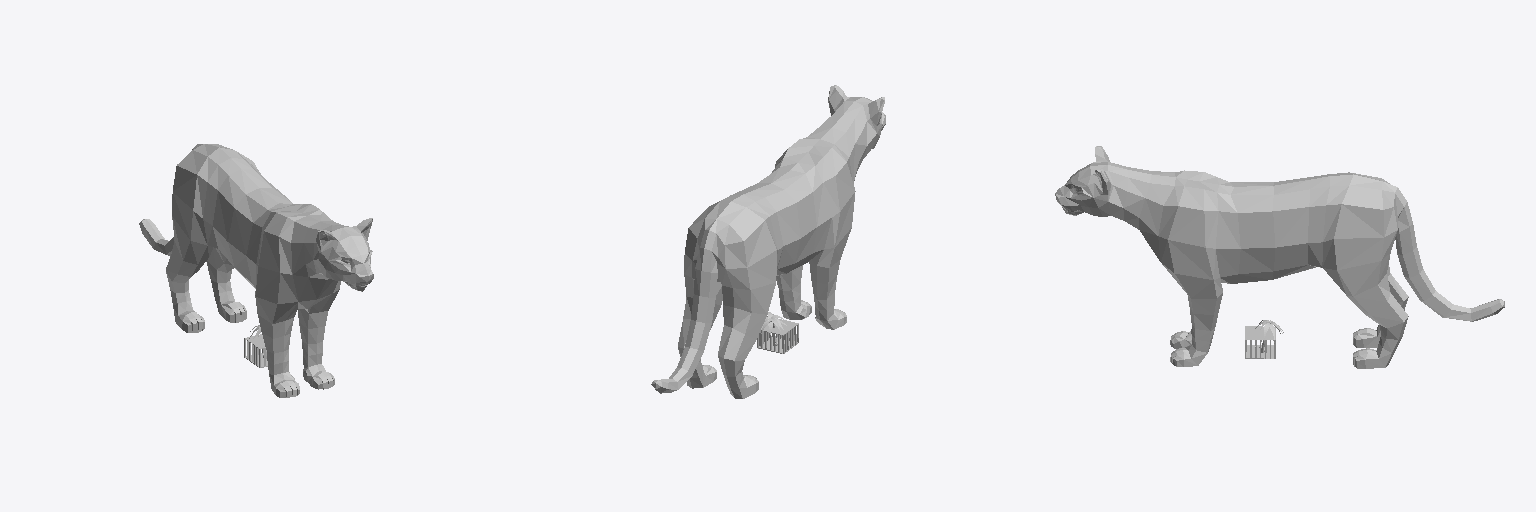
The model's file is Puma.obj.
3 renders of one model, left to right at view 1: azimuth 30°, elevation 25°; view 2: azimuth 150°, elevation 25°; view 3: azimuth 270°, elevation 25°, orthographic.
Visible parts, largest first — view 1: MountainPuma.001, Cage; view 2: MountainPuma.001, Cage; view 3: MountainPuma.001, Cage.
Boxes of the visible parts, <box> form: MountainPuma.001: <box>139,144,373,397</box>; Cage: <box>244,334,267,367</box>; MountainPuma.001: <box>651,85,885,398</box>; Cage: <box>757,318,798,353</box>; MountainPuma.001: <box>1055,146,1504,368</box>; Cage: <box>1245,326,1275,358</box>.
Size of the model in its own units: 35.57 by 90.19 by 188.